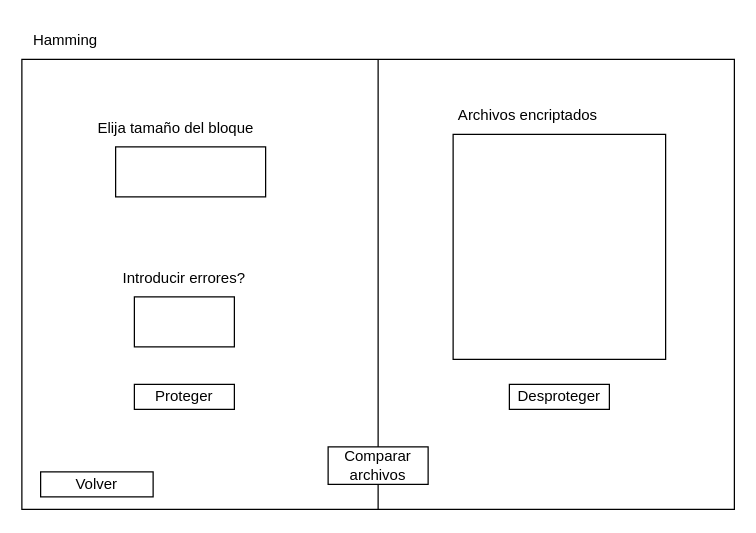
Image size: 756x533. Some labels were removed from this diagram. Here are the shapes that lost their labels. From the top down, the centre of each, then its label:
(190,171): (Combo box)
(183,321): SI o No (opt)
